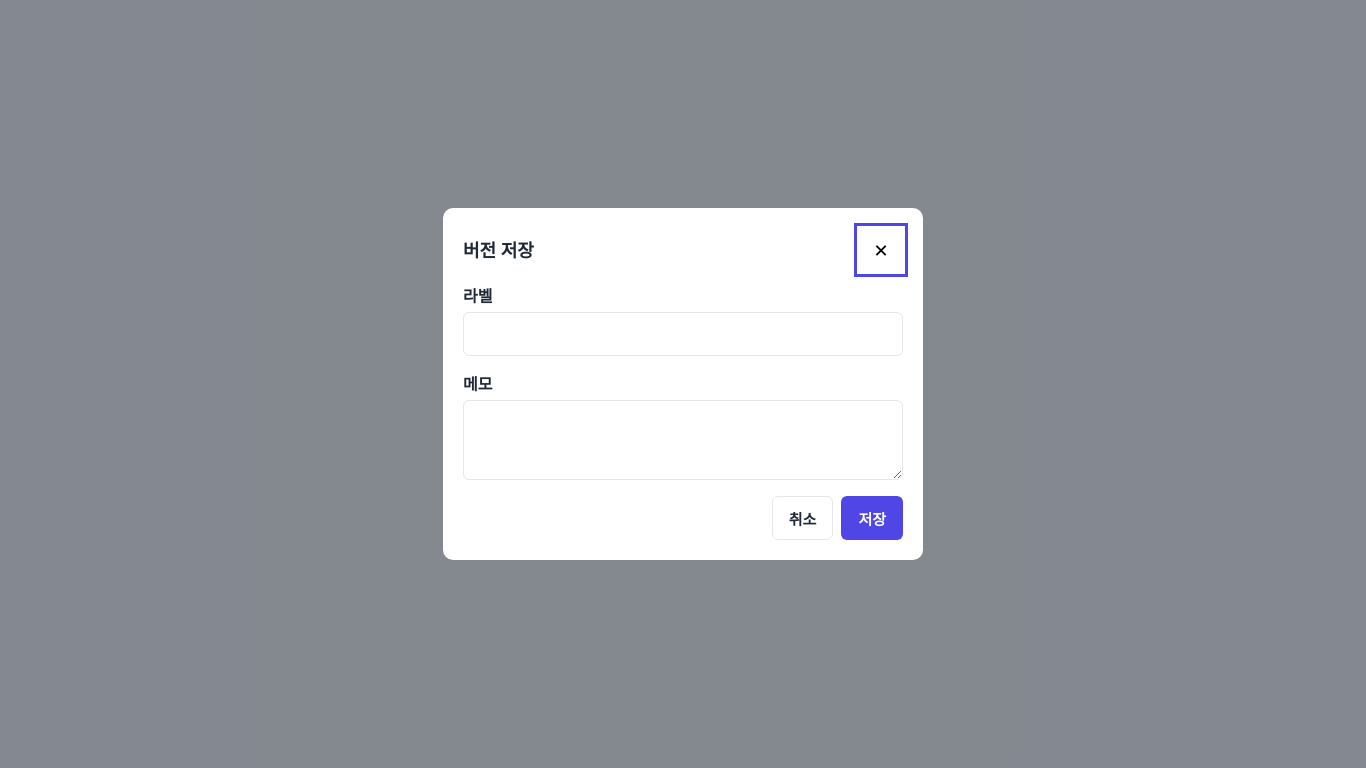
it: CreateVersionModal › unchanged 상태에서 라벨/메모를 입력하지 않았으면 단축 버튼이 렌더되지 않는다
Click the button "저장".
click(872, 518)  # box [841,496,903,540]
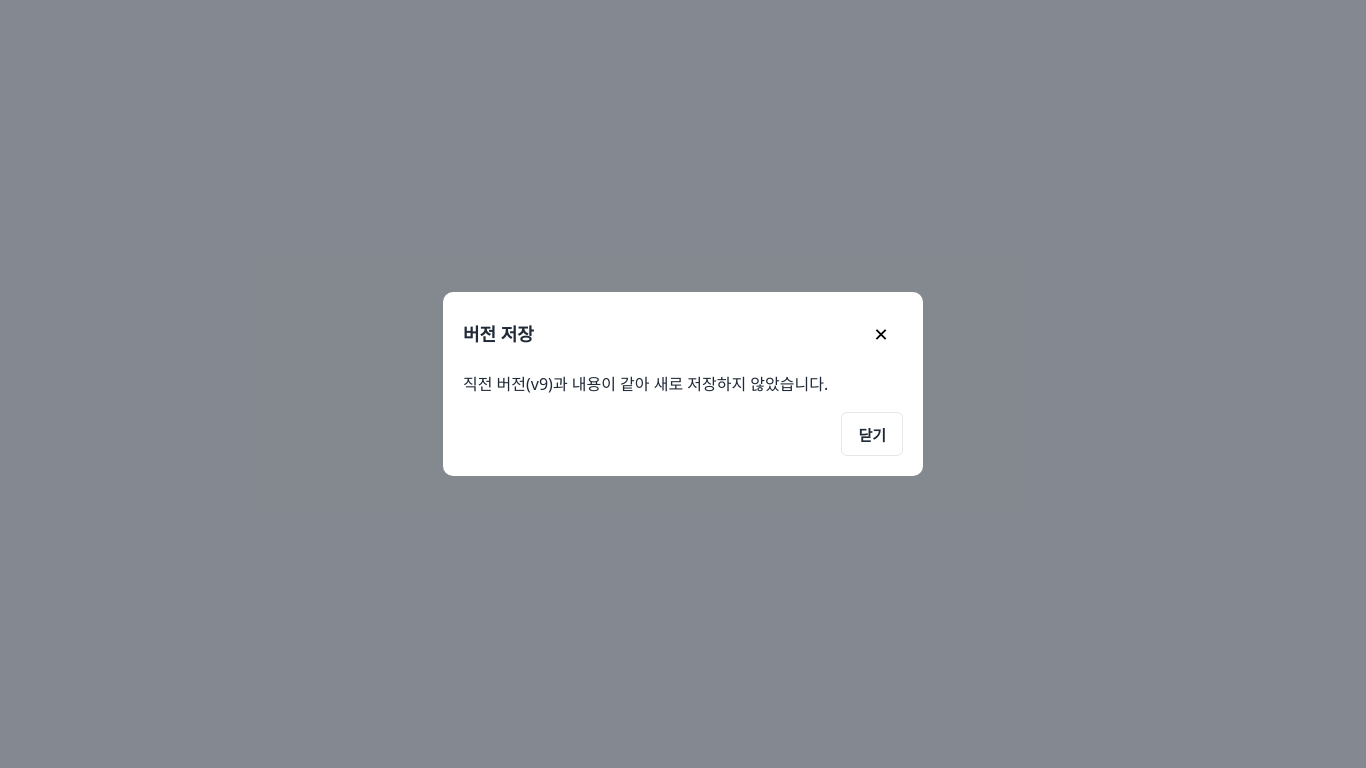
Now the message "직전 버전(v9)과 내용이 같아 새로 저장하지 않았습니다." is shown, box [463,373,828,395]
